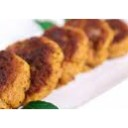cutlet: (6, 39, 62, 99), (44, 28, 89, 81), (68, 17, 112, 63), (1, 49, 32, 107), (104, 16, 128, 58)
